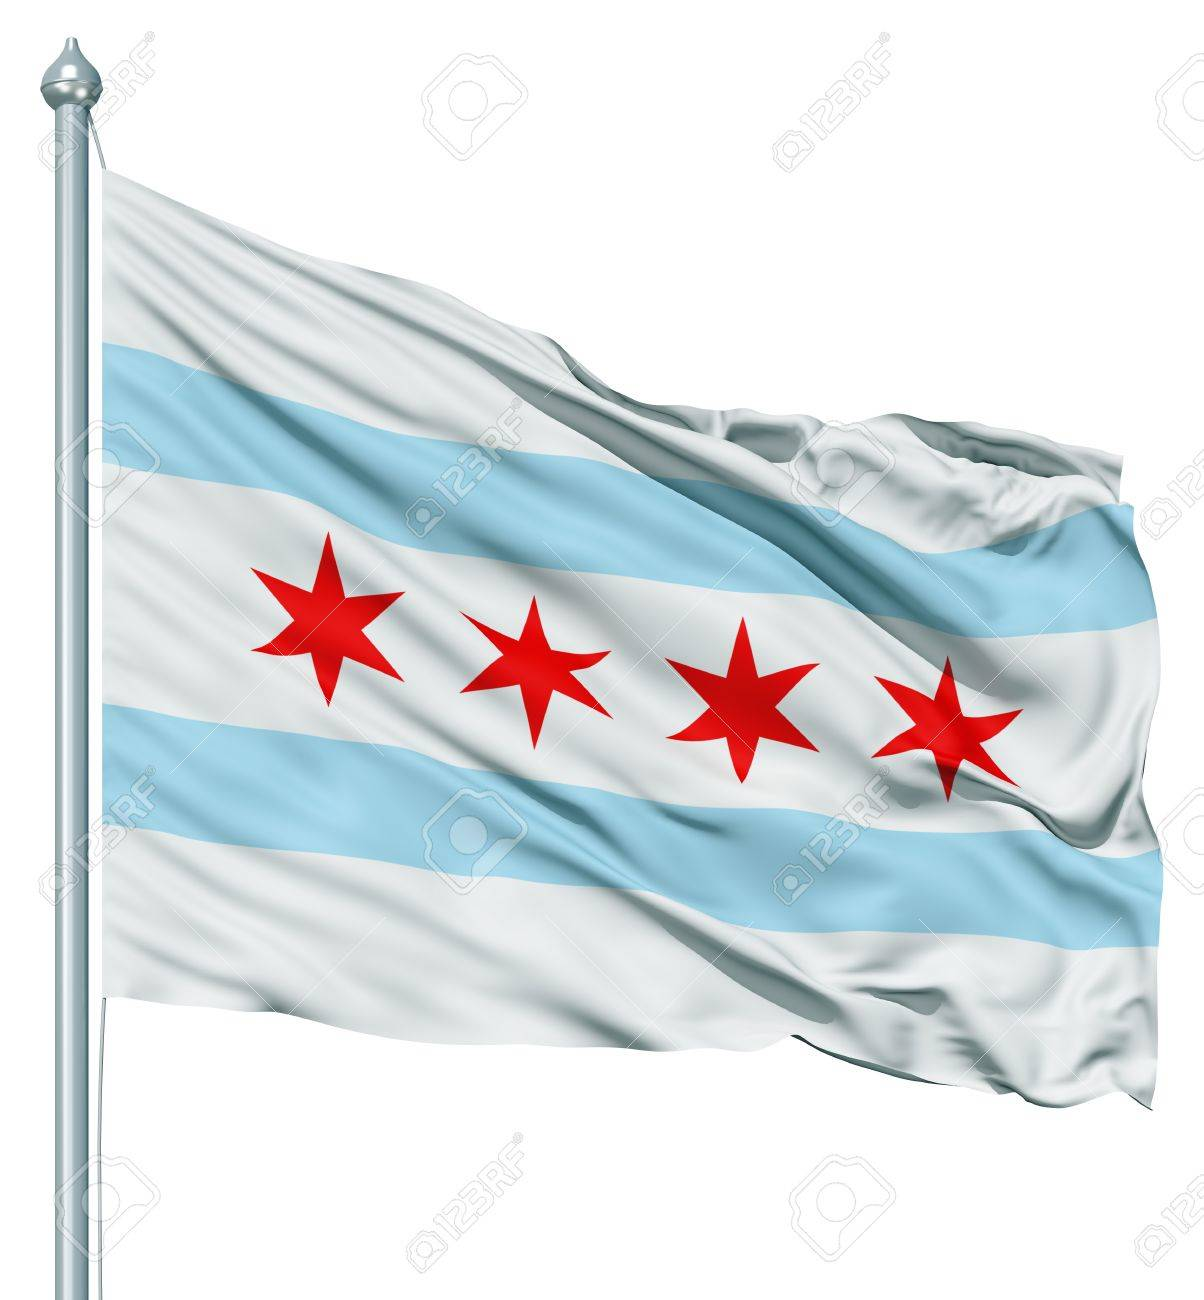Flag: (92, 157, 1165, 1115)
